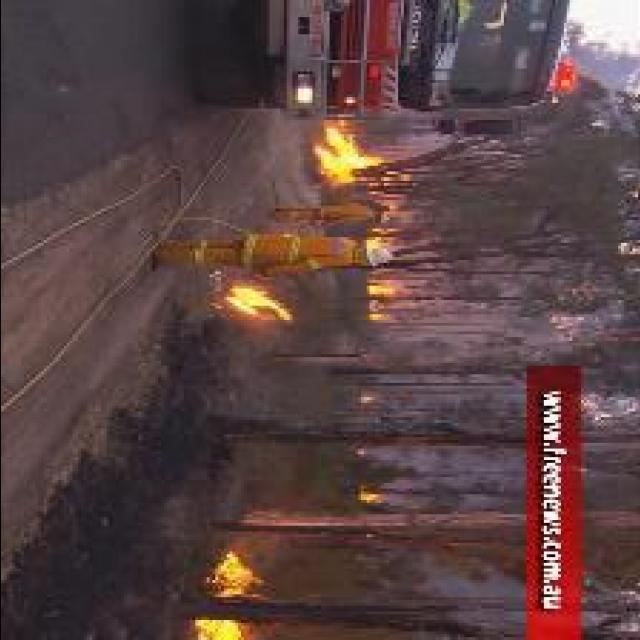Fire: (311, 126, 383, 192), (203, 551, 263, 603), (226, 288, 292, 326), (192, 620, 248, 640), (364, 228, 402, 254), (367, 286, 404, 298), (357, 494, 389, 502)
